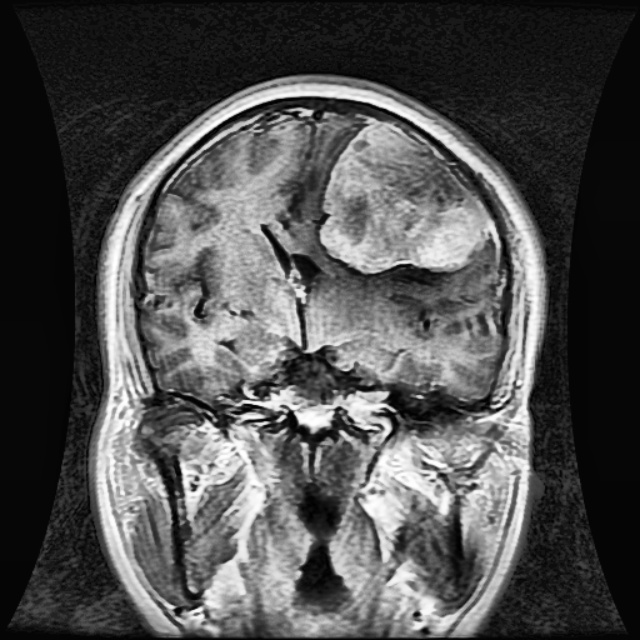Glioma: (319, 119, 490, 274)
